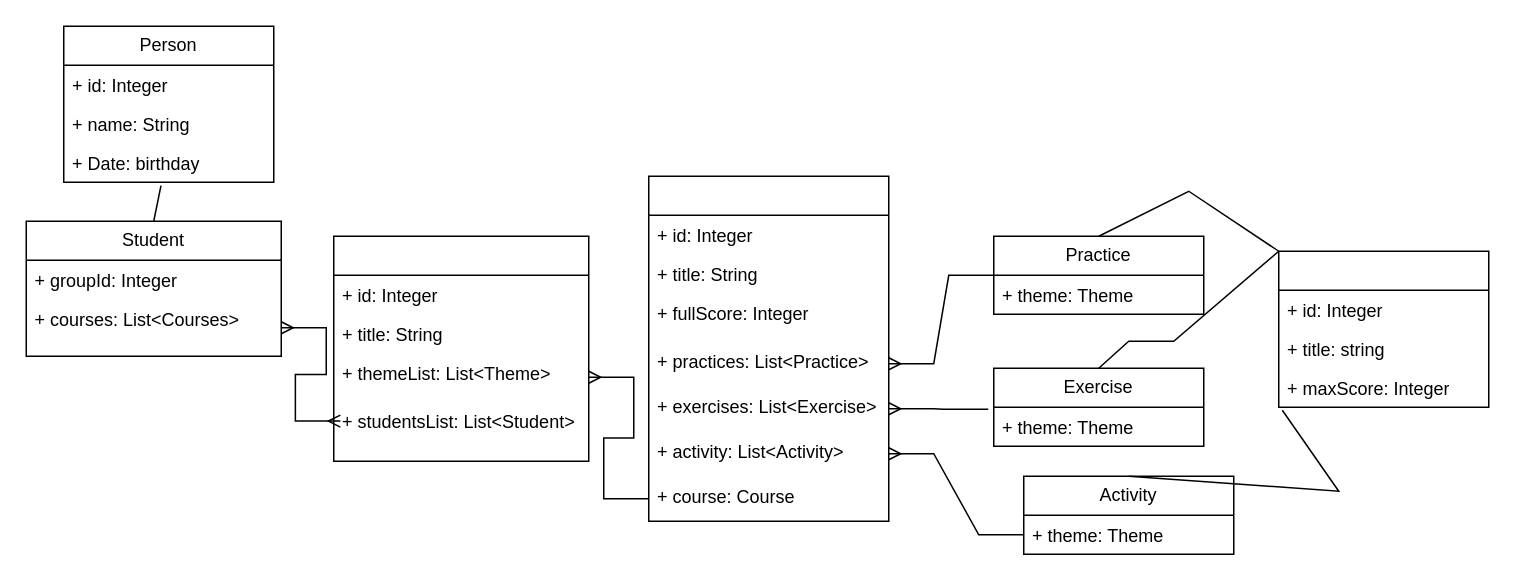
Some shapes in this 1515 by 585 pixel diagram are drawn without their labels. Here are the shapes that lost their labels. From the top down, the box of each, then its label:
(332, 235, 589, 461): Course
(647, 175, 889, 521): Theme
(1277, 250, 1489, 407): UnitOfTheme
